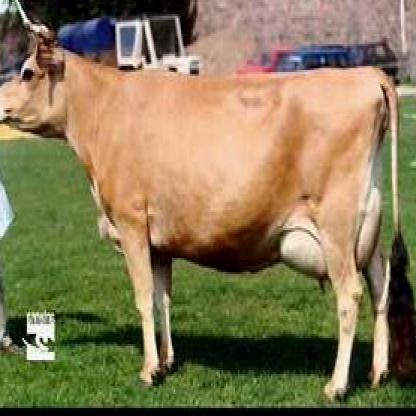cow: (1, 24, 414, 406)
